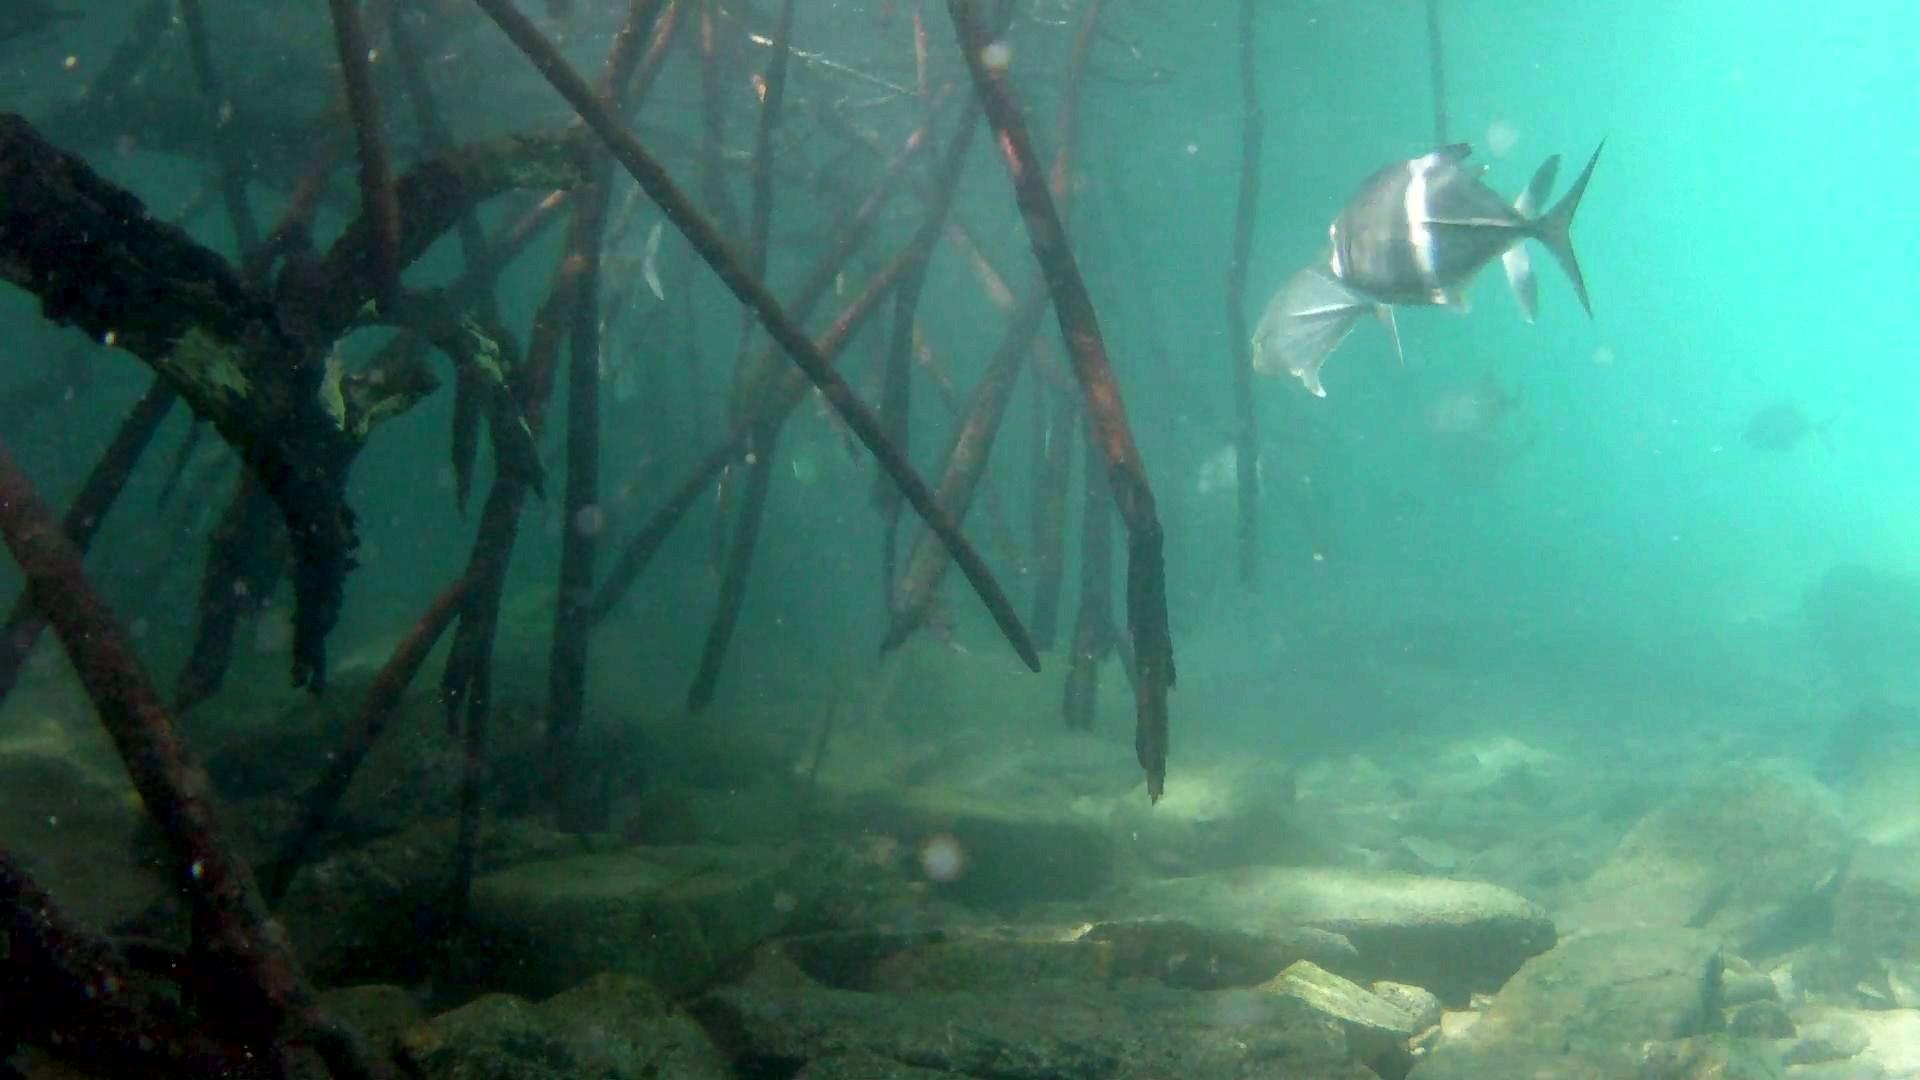caranx: (1315, 108, 1621, 327)
